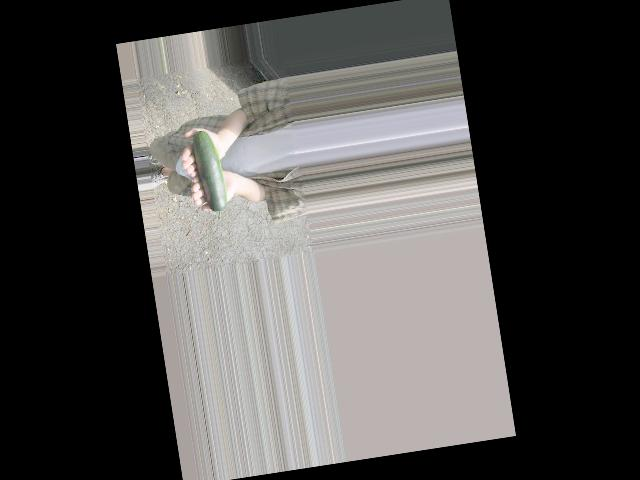cucumber: (190, 129, 230, 224)
